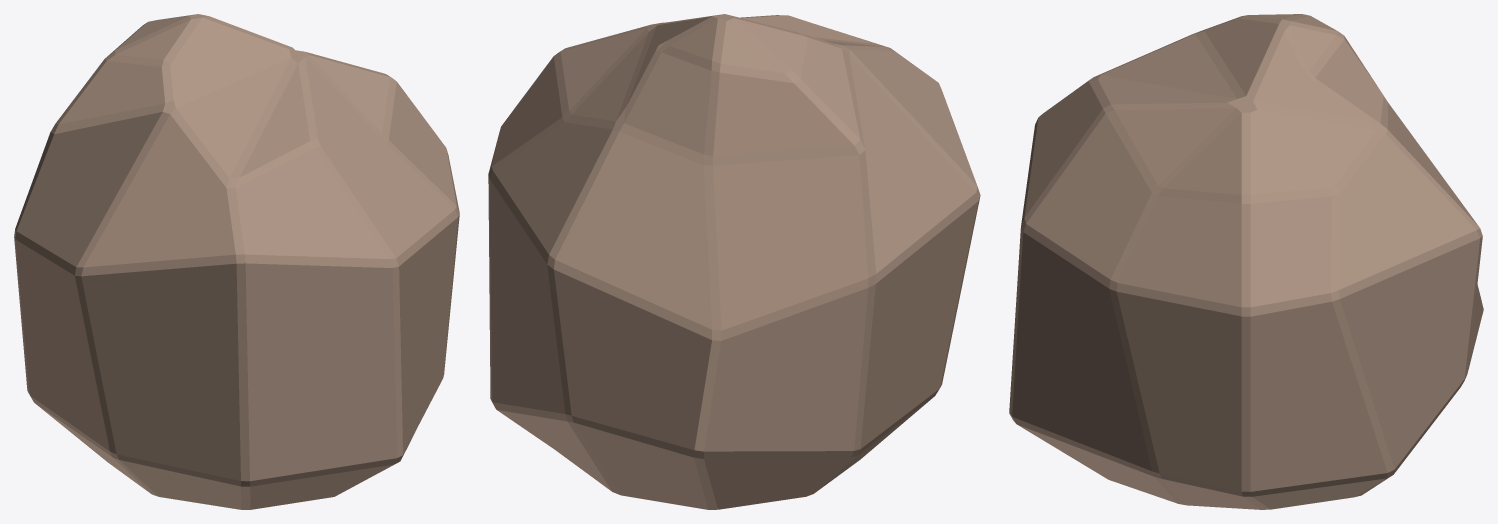
The model's file is Irregular_Stone_0.75_0.75_0.75_Colored.fbx.
3 renders of one model, left to right at view 1: azimuth 30°, elevation 25°; view 2: azimuth 150°, elevation 25°; view 3: azimuth 270°, elevation 25°, orthographic. The views are drawn at different scales.
Visible parts, largest first — view 1: Irregular_Rock_0_75_0_75_0_75_Bevel; view 2: Irregular_Rock_0_75_0_75_0_75_Bevel; view 3: Irregular_Rock_0_75_0_75_0_75_Bevel.
Part boxes in pixels (x1,y1,x2,y2): Irregular_Rock_0_75_0_75_0_75_Bevel: (14,14,459,509); Irregular_Rock_0_75_0_75_0_75_Bevel: (488,14,980,509); Irregular_Rock_0_75_0_75_0_75_Bevel: (1009,14,1483,509).
Bounding box in the file's own units: 73.22 × 73.22 × 72.77.
